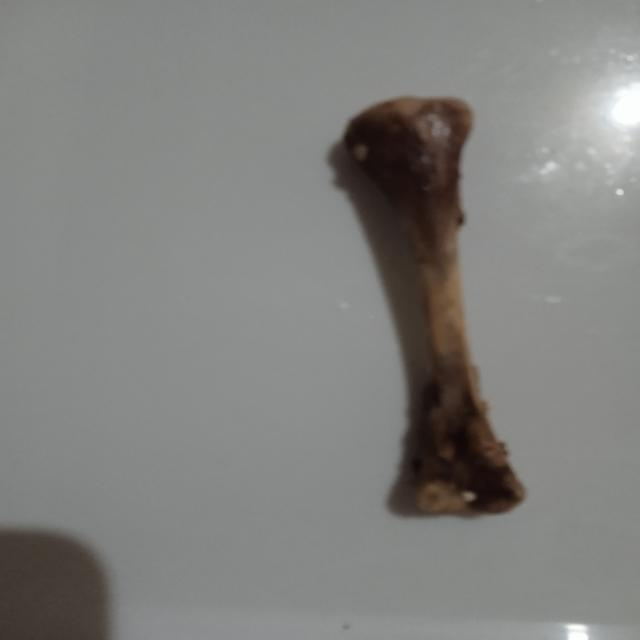bone: (326, 87, 536, 529)
